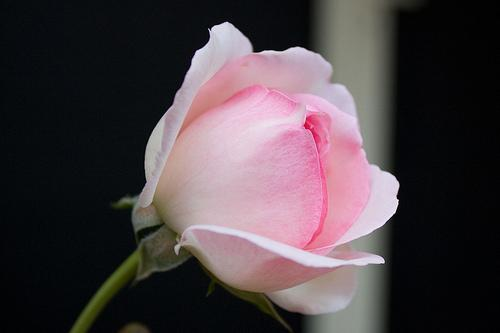Rose: (119, 18, 404, 304)
